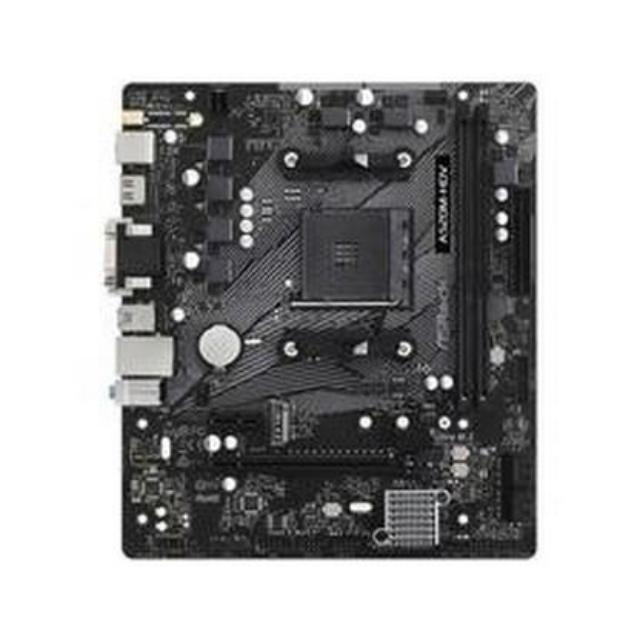Mainboard: (118, 79, 540, 567)
